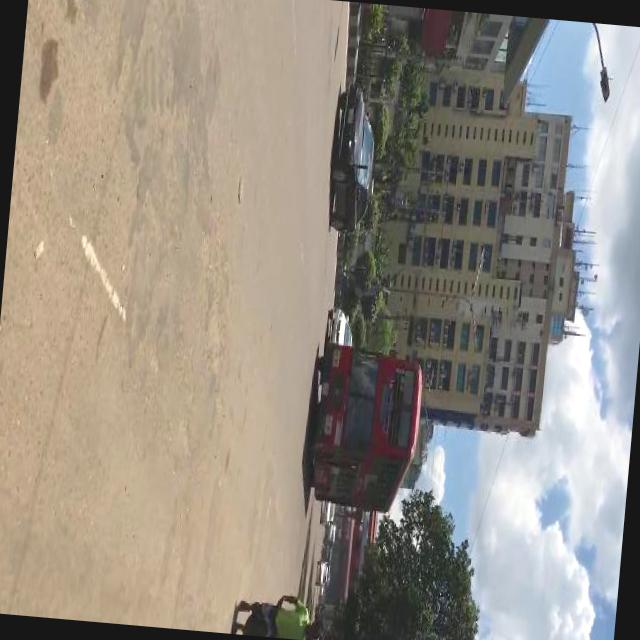bus: (304, 338, 426, 516)
car: (323, 76, 380, 232), (326, 302, 356, 344), (320, 500, 336, 524), (316, 558, 329, 584)
truck: (322, 520, 337, 541)
